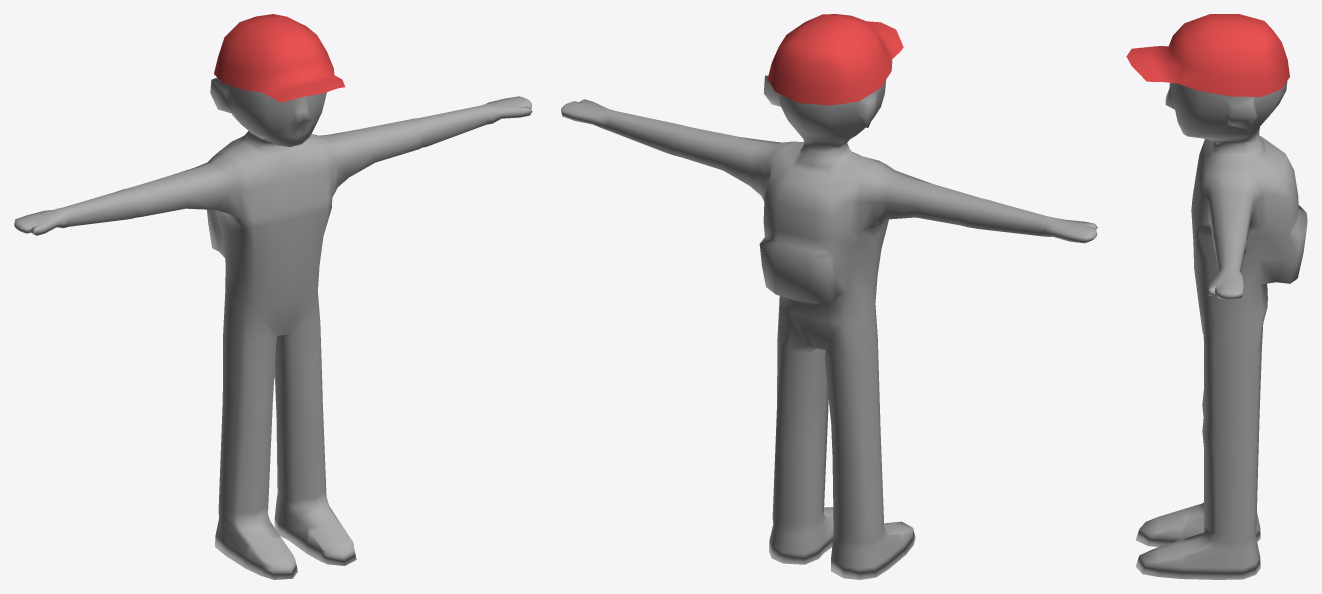
The model's file is theKid01.fbx.
The picture shows the model from 3 angles, left to right: view 1: azimuth 30°, elevation 25°; view 2: azimuth 150°, elevation 25°; view 3: azimuth 270°, elevation 25°; orthographic projection. The views are drawn at different scales.
Parts seen in each view (by area): view 1: kidModel, capModel; view 2: kidModel, capModel; view 3: kidModel, capModel.
Part boxes in pixels (x1=…): kidModel: x1=14, y1=77, x2=532, y2=579; capModel: x1=214, y1=14, x2=344, y2=102; kidModel: x1=561, y1=75, x2=1097, y2=579; capModel: x1=767, y1=14, x2=903, y2=105; kidModel: x1=1135, y1=81, x2=1307, y2=579; capModel: x1=1126, y1=14, x2=1289, y2=96.
Size of the model in its own units: 6.68 by 6.43 by 1.98.
